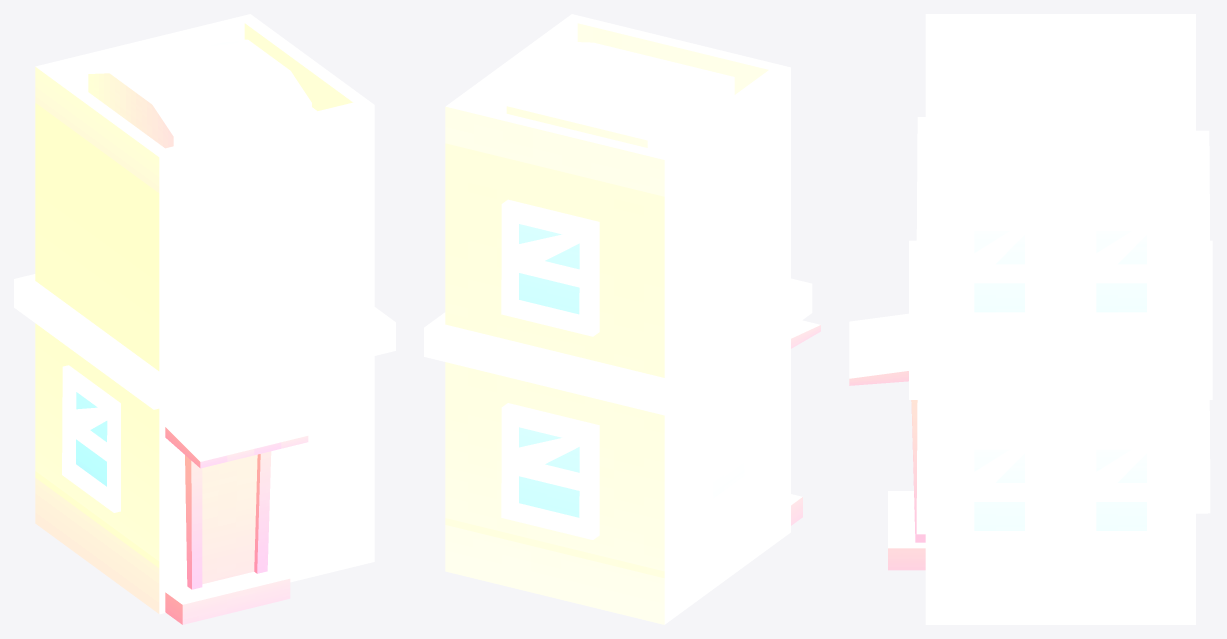
File: house1_a.glb
3 renders of one model, left to right at view 1: azimuth 30°, elevation 25°; view 2: azimuth 150°, elevation 25°; view 3: azimuth 270°, elevation 25°, orthographic. The views are drawn at different scales.
Parts seen in each view (by area): view 1: house_cube_2; view 2: house_cube_2; view 3: house_cube_2.
Boxes of the visible parts, x1,y1,x2,y2 form: house_cube_2: [14, 14, 395, 624]; house_cube_2: [424, 14, 820, 624]; house_cube_2: [849, 14, 1212, 624].
Bounding box in the file's own units: 1.58 × 2.94 × 1.89.
